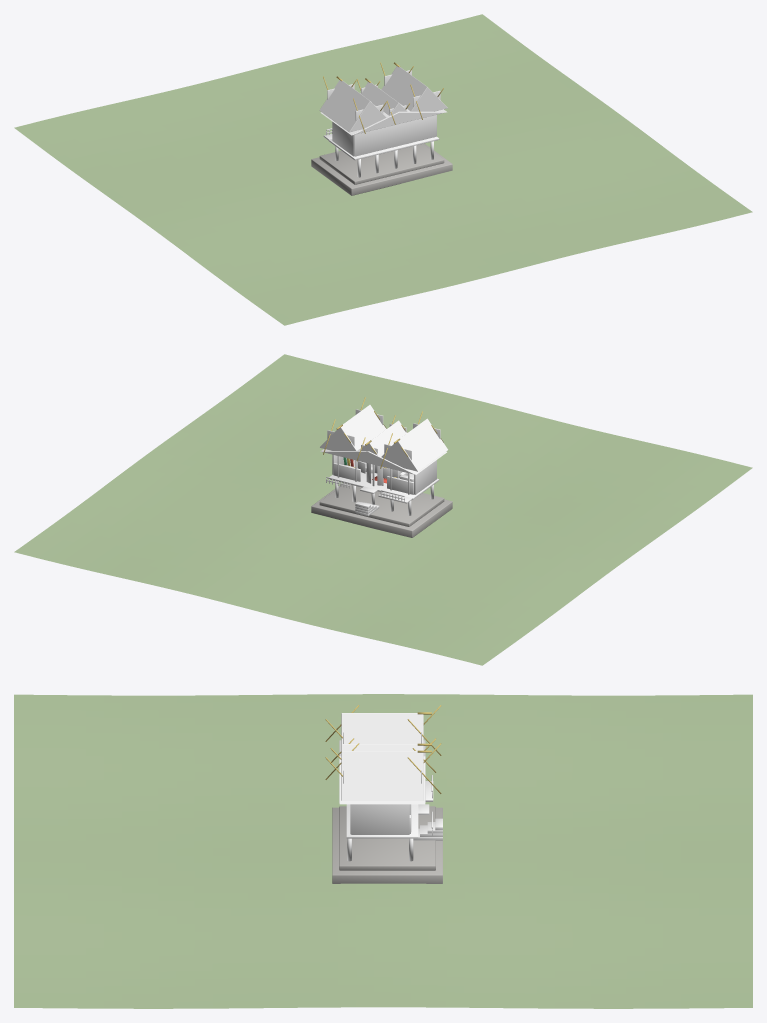
File: thai_spirit_house.glb
The picture shows the model from 3 angles, top to bottom: view 1: azimuth 30°, elevation 25°; view 2: azimuth 150°, elevation 25°; view 3: azimuth 270°, elevation 25°; orthographic projection. The views are drawn at different scales.
Visible parts, largest first — view 1: Ground, PedestalTop, RearWall, Roof0, PedestalBase, Roof2, BaseRoof, Roof1; view 2: Ground, PedestalTop, Roof0, PedestalBase, Roof2, BaseRoof, FloorMain, Roof1; view 3: Ground, Roof2, PedestalTop, Roof0, PedestalBase, RightWall, FloorMain, BaseRoof, Roof1.
Part boxes in pixels (<box>): Ground: <box>14,14,752,325</box>; PedestalTop: <box>319,144,444,184</box>; RearWall: <box>354,115,436,156</box>; Roof0: <box>319,80,386,132</box>; PedestalBase: <box>311,143,452,195</box>; Roof2: <box>381,66,447,111</box>; BaseRoof: <box>320,93,446,135</box>; Roof1: <box>360,82,407,115</box>; Ground: <box>14,354,752,665</box>; PedestalTop: <box>319,483,444,526</box>; Roof0: <box>381,418,447,471</box>; PedestalBase: <box>311,483,452,537</box>; Roof2: <box>320,405,386,450</box>; BaseRoof: <box>320,428,446,474</box>; FloorMain: <box>329,460,439,499</box>; Roof1: <box>361,420,406,455</box>; Ground: <box>14,694,752,1008</box>; Roof2: <box>341,751,423,800</box>; PedestalTop: <box>339,806,435,870</box>; Roof0: <box>341,713,423,743</box>; PedestalBase: <box>332,807,442,883</box>; RightWall: <box>351,804,409,834</box>; FloorMain: <box>346,804,418,838</box>; BaseRoof: <box>339,740,425,804</box>; Roof1: <box>341,744,423,750</box>.
Size of the model in its own units: 36 by 6.56 by 36.
